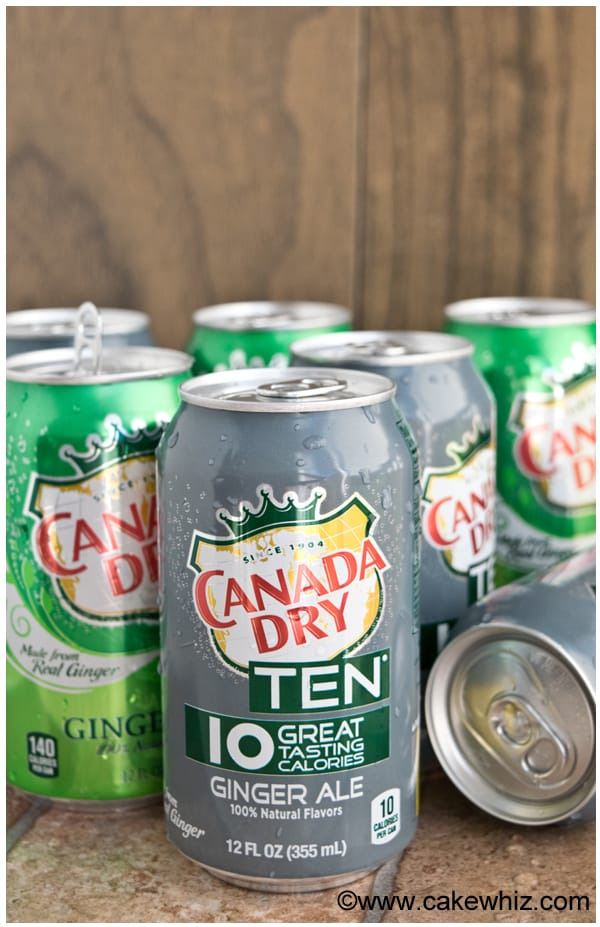Lata: (5, 327, 175, 814)
